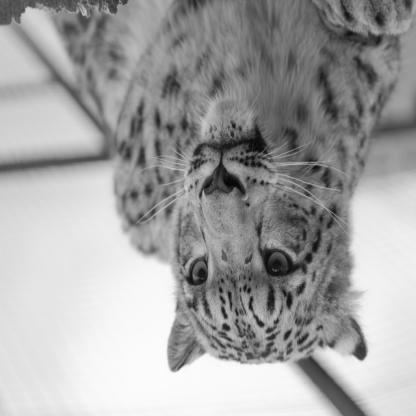leopard: (159, 102, 369, 378)
